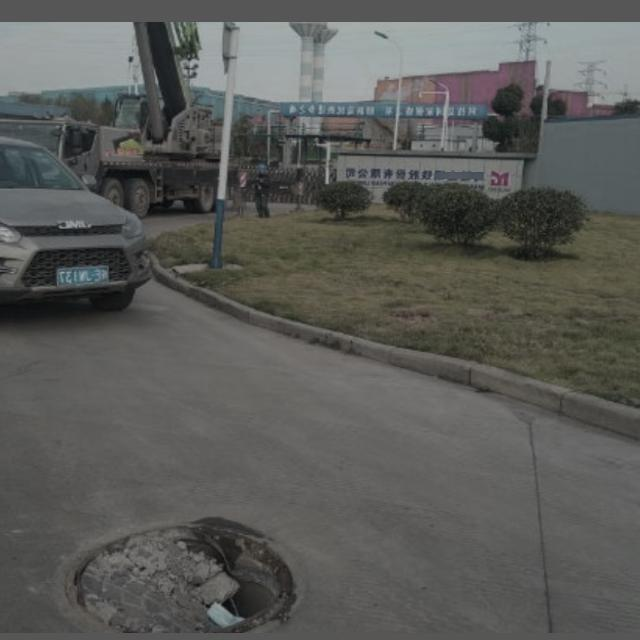broke: (69, 522, 294, 633)
